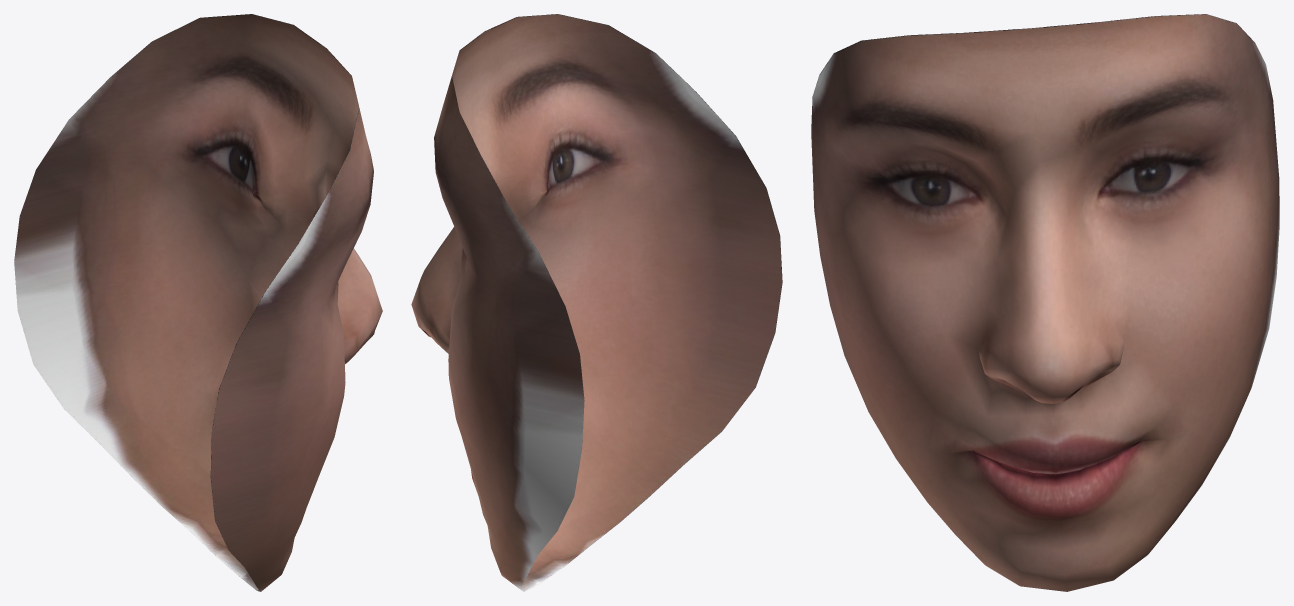
File: instagram_fashion.glb
3 views of the same model, side by side, from view 1: azimuth 30°, elevation 25°; view 2: azimuth 150°, elevation 25°; view 3: azimuth 270°, elevation 25° (orthographic). The views are drawn at different scales.
Parts seen in each view (by area): view 1: instagram_fashion; view 2: instagram_fashion; view 3: instagram_fashion.
Boxes of the visible parts, bbox=[...] form: instagram_fashion: bbox=[14, 14, 382, 591]; instagram_fashion: bbox=[411, 14, 782, 591]; instagram_fashion: bbox=[811, 14, 1279, 591].
Size of the model in its own units: 0.4467 by 0.852 by 0.5958.
Materials: 1 (1 with a texture image).
